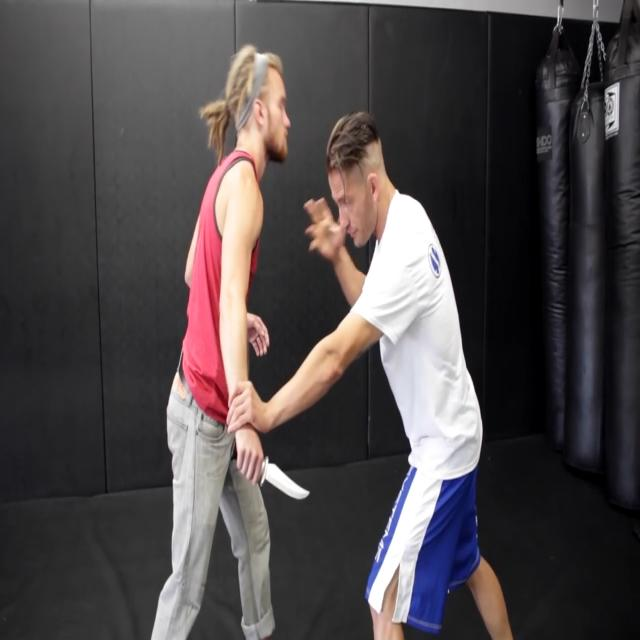knife: (255, 455, 315, 502)
